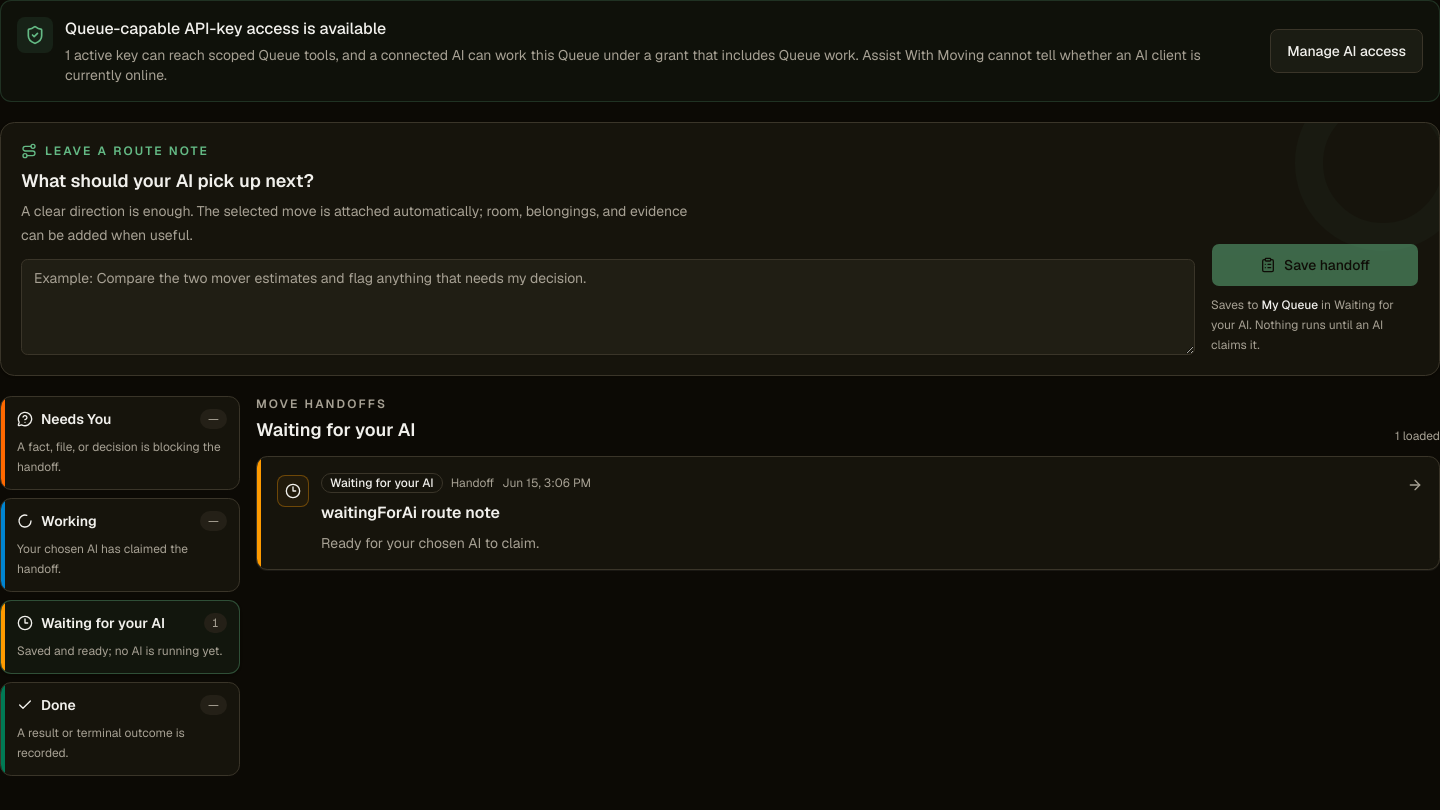
Test: QueueDesk › keeps a linked MCP result readable without inventing a Queue transition
This screenshot has width=1440, height=810.
Step 1. Click the button "waitingForAi route note" → (293, 491), box [256, 456, 1439, 570]
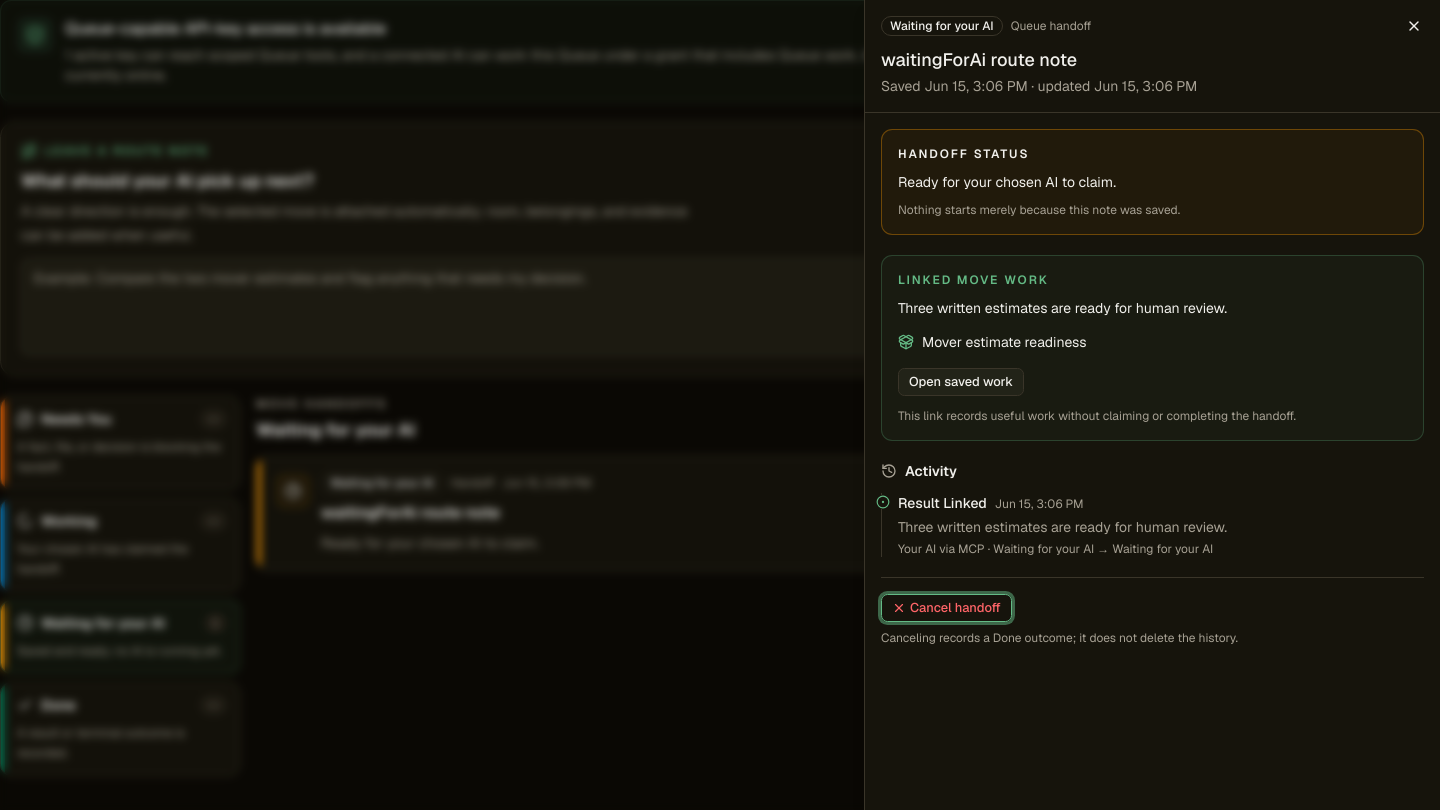
Expected: the text "Linked move work" is shown, [898, 272, 1049, 288]
Expected: the text "Three written estimates are ready for human review." is shown 2 times, [898, 299, 1227, 317]; [898, 518, 1227, 536]
Expected: the list item "Mover estimate readiness" is shown, [898, 333, 1086, 351]
